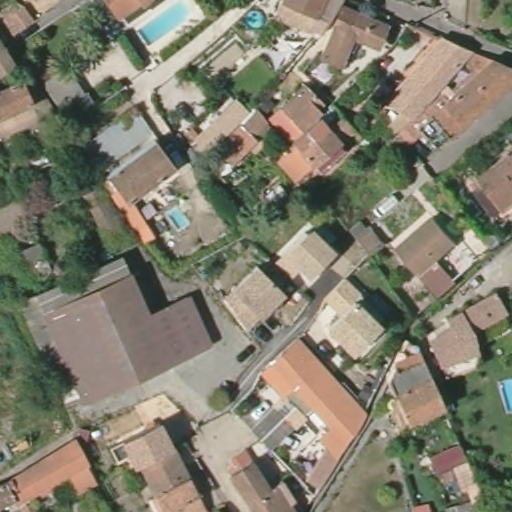pool: (138, 2, 196, 47), (163, 202, 191, 232), (498, 375, 512, 415), (243, 8, 268, 29)
